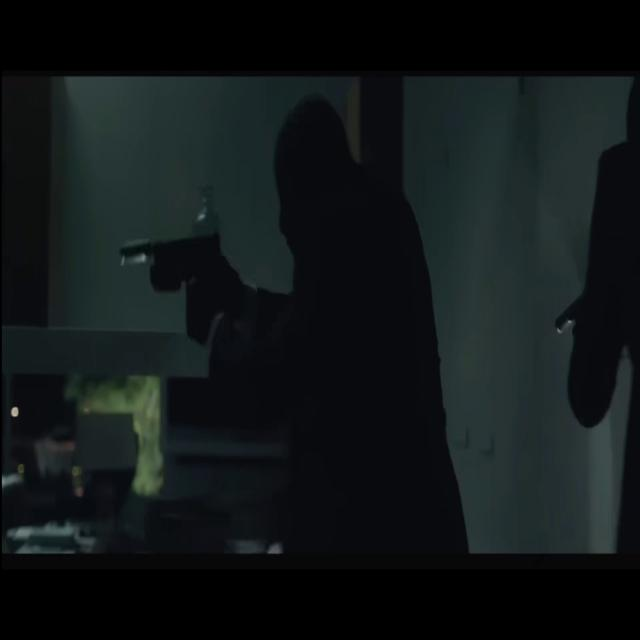weapons: (109, 218, 229, 340)
